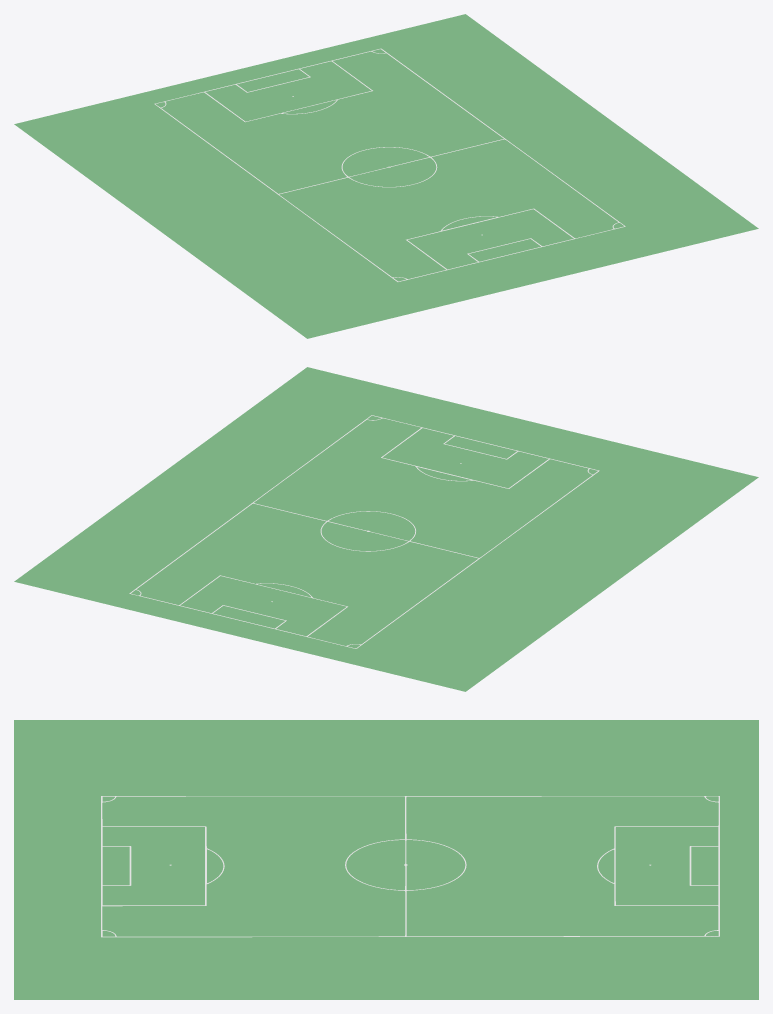
Rendered from AthleticGround.fbx.
3 renders of one model, top to bottom at view 1: azimuth 30°, elevation 25°; view 2: azimuth 150°, elevation 25°; view 3: azimuth 270°, elevation 25°, orthographic. The views are drawn at different scales.
Parts seen in each view (by area): view 1: AthleticGround; view 2: AthleticGround; view 3: AthleticGround.
Boxes of the visible parts, bbox=[...] form: AthleticGround: bbox=[14, 14, 758, 338]; AthleticGround: bbox=[14, 367, 758, 691]; AthleticGround: bbox=[14, 720, 758, 999].
Size of the model in its own units: 74.75 by 0.1843 by 84.07.
